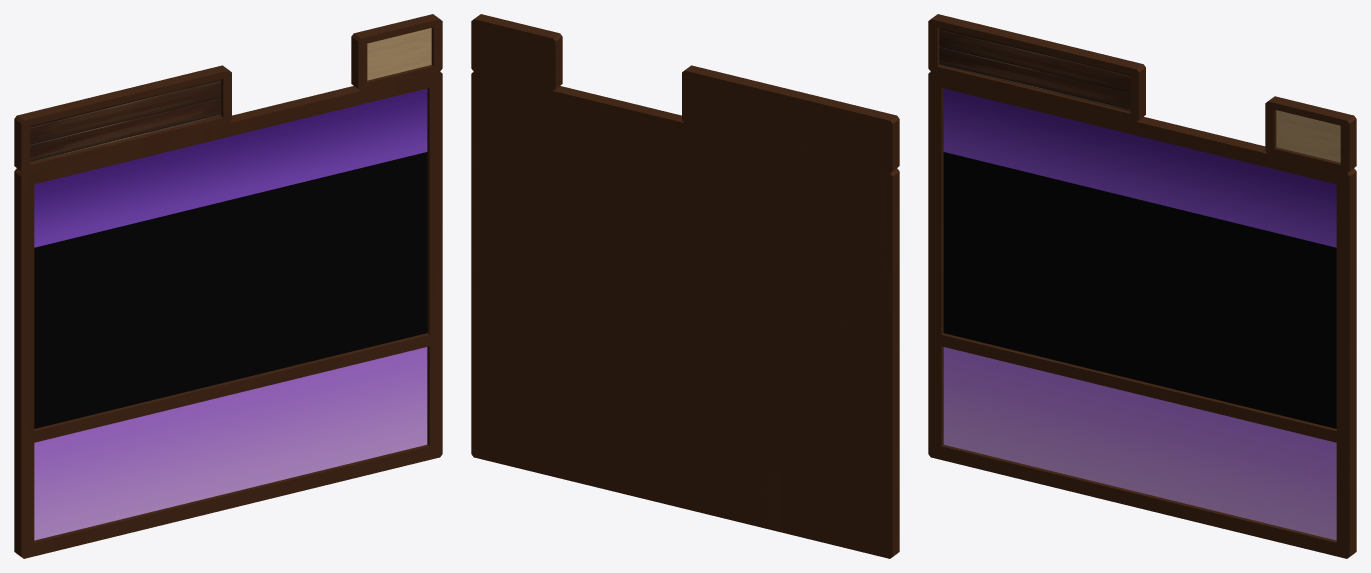
Rendered from SM_LevelSelect_Dodgeball.fbx.
3 views of the same model, side by side, from view 1: azimuth 30°, elevation 25°; view 2: azimuth 150°, elevation 25°; view 3: azimuth 330°, elevation 25° (orthographic).
Parts seen in each view (by area): view 1: Dodgeball; view 2: Dodgeball; view 3: Dodgeball.
Boxes of the visible parts, x1,y1,x2,y2 form: Dodgeball: [14, 14, 442, 558]; Dodgeball: [471, 14, 899, 558]; Dodgeball: [928, 14, 1356, 558].
Bounding box in the file's own units: 550 × 546 × 15.91.
